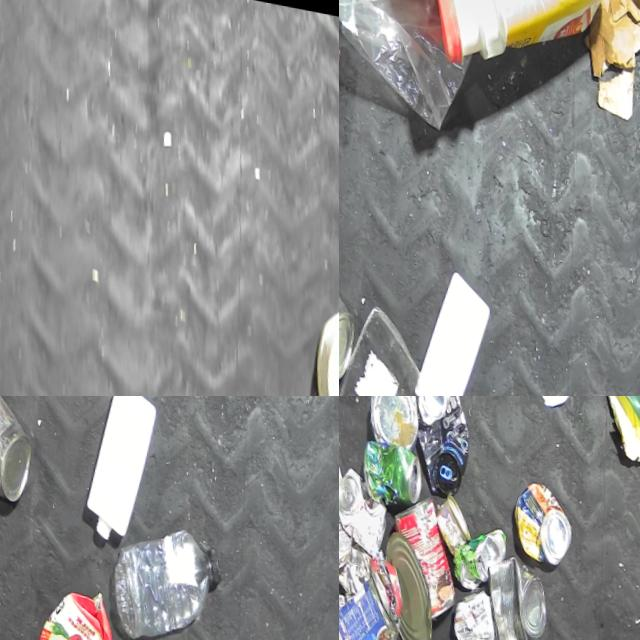can: (370, 486, 459, 621), (362, 526, 433, 640), (464, 545, 546, 640), (396, 396, 475, 494), (498, 472, 571, 563), (351, 434, 421, 508), (438, 514, 503, 592), (0, 396, 40, 519), (339, 564, 400, 640), (339, 461, 387, 557), (433, 579, 501, 640), (354, 396, 420, 446), (421, 487, 469, 554), (339, 250, 358, 379)
milk_jug: (388, 258, 497, 396)
plastic_bottle: (82, 493, 229, 640)
